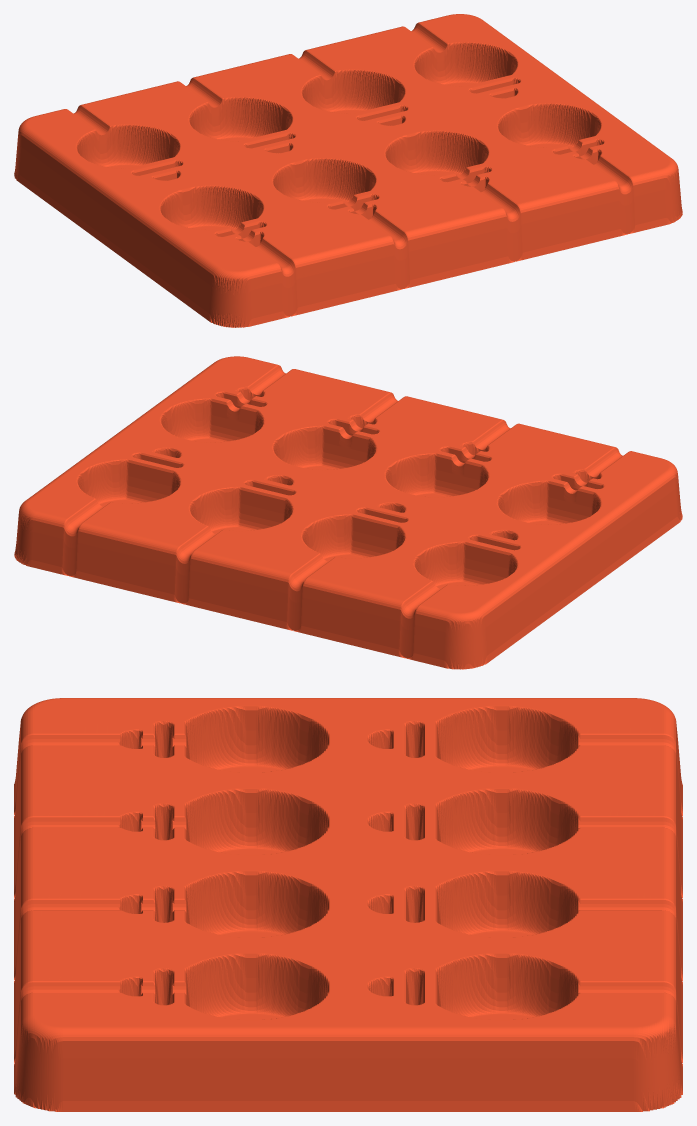
File: mold.glb
3 renders of one model, top to bottom at view 1: azimuth 30°, elevation 25°; view 2: azimuth 150°, elevation 25°; view 3: azimuth 270°, elevation 25°, orthographic. The views are drawn at different scales.
Visible parts, largest first — view 1: geometry_0; view 2: geometry_0; view 3: geometry_0.
Part boxes in pixels (x1,y1,x2,y2): geometry_0: [14, 14, 682, 327]; geometry_0: [14, 356, 682, 669]; geometry_0: [14, 698, 682, 1111].
Bounding box in the file's own units: 0.1498 × 0.0155 × 0.1229.
